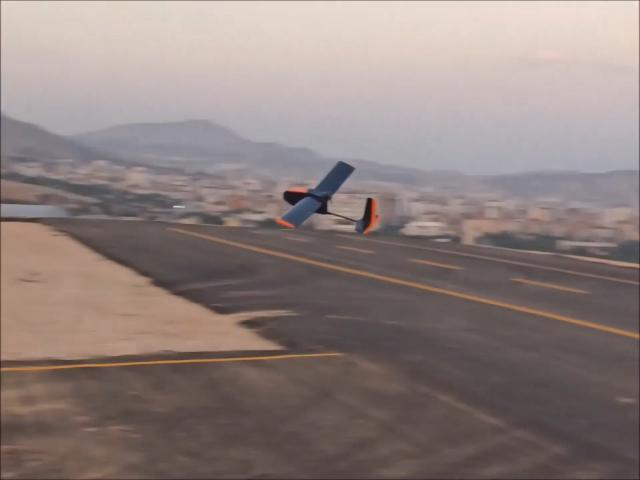insansiz-hava-araci: (275, 161, 382, 234)
